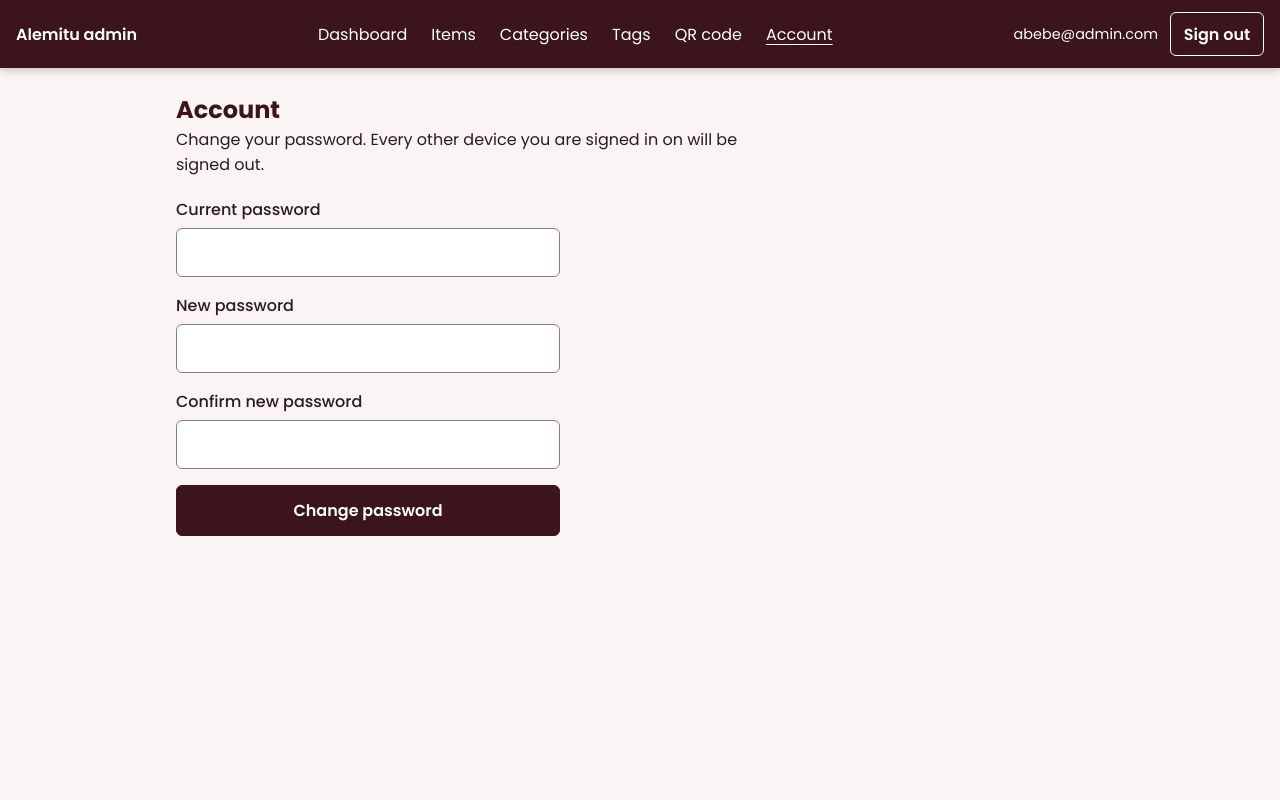
account settings › explains a mismatched confirmation and sends nothing
This screenshot has width=1280, height=800.
In the password field labelled "Current password": [368, 252] box [176, 228, 560, 277], type "old-password-123"
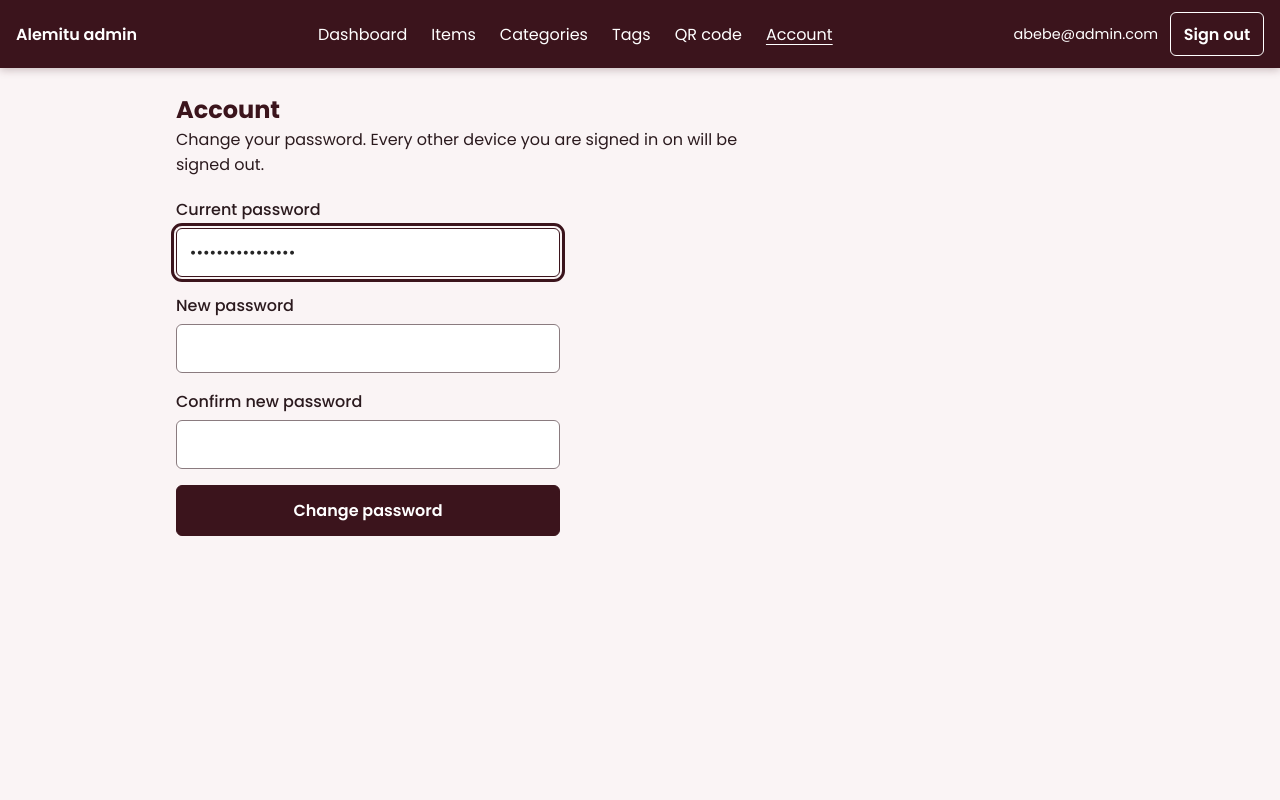
In the password field labelled "New password": [368, 348] box [176, 324, 560, 373], type "new-password-1234"
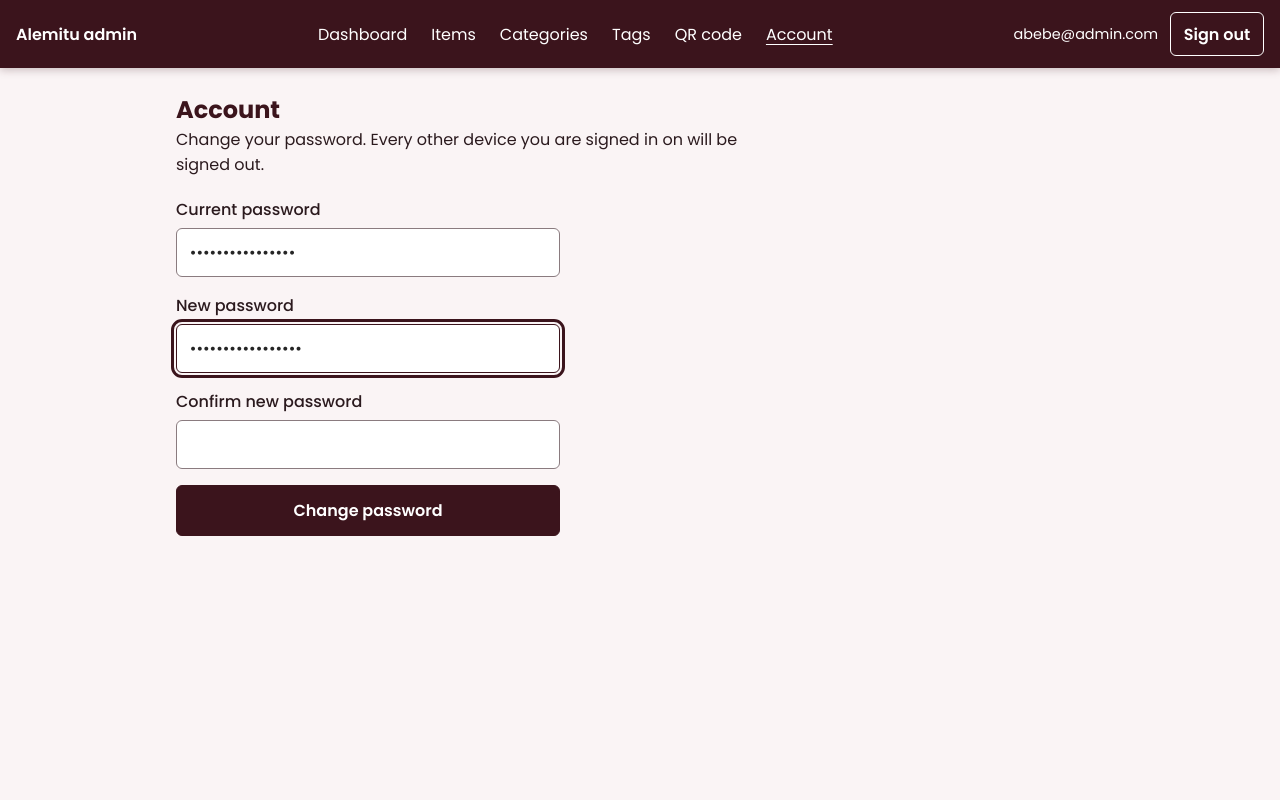
In the password field labelled "Confirm new password": [368, 444] box [176, 420, 560, 469], type "something-else-123"
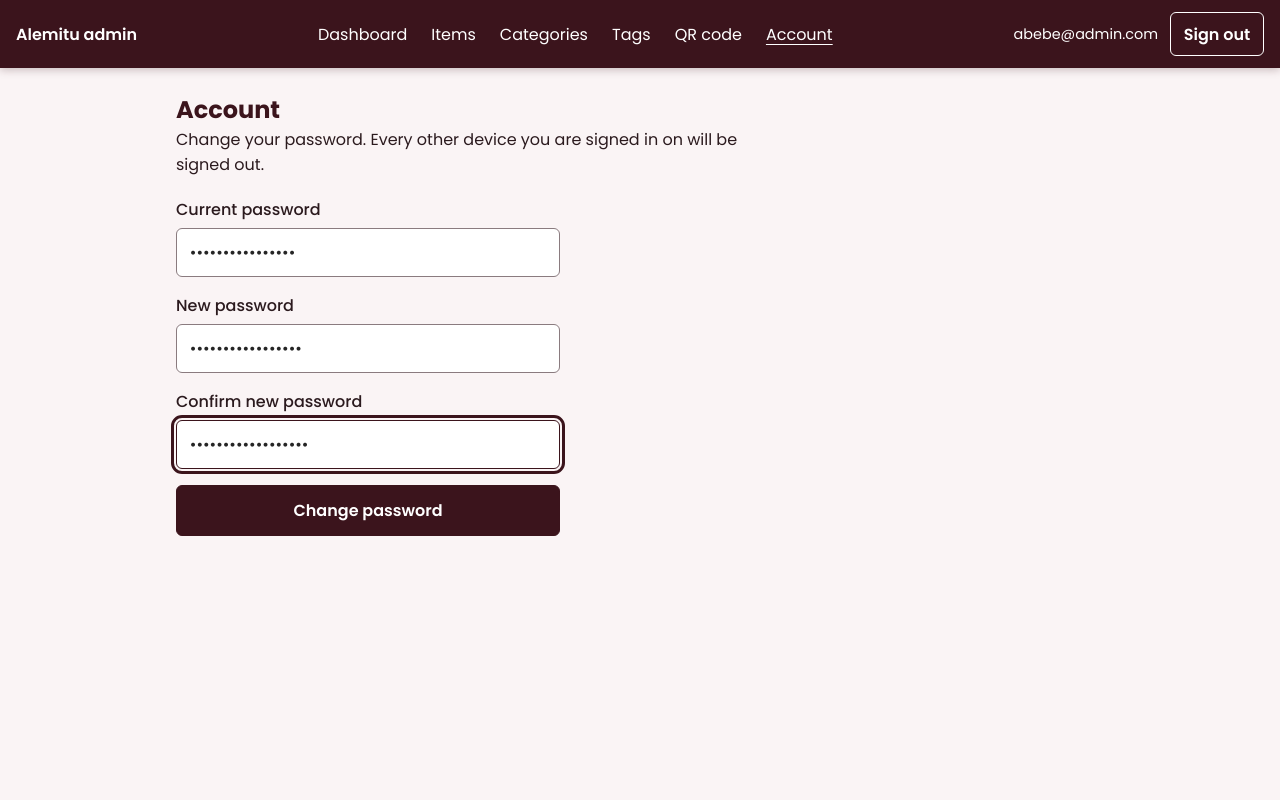
Click the button "Change password": [368, 510] box [176, 485, 560, 536]
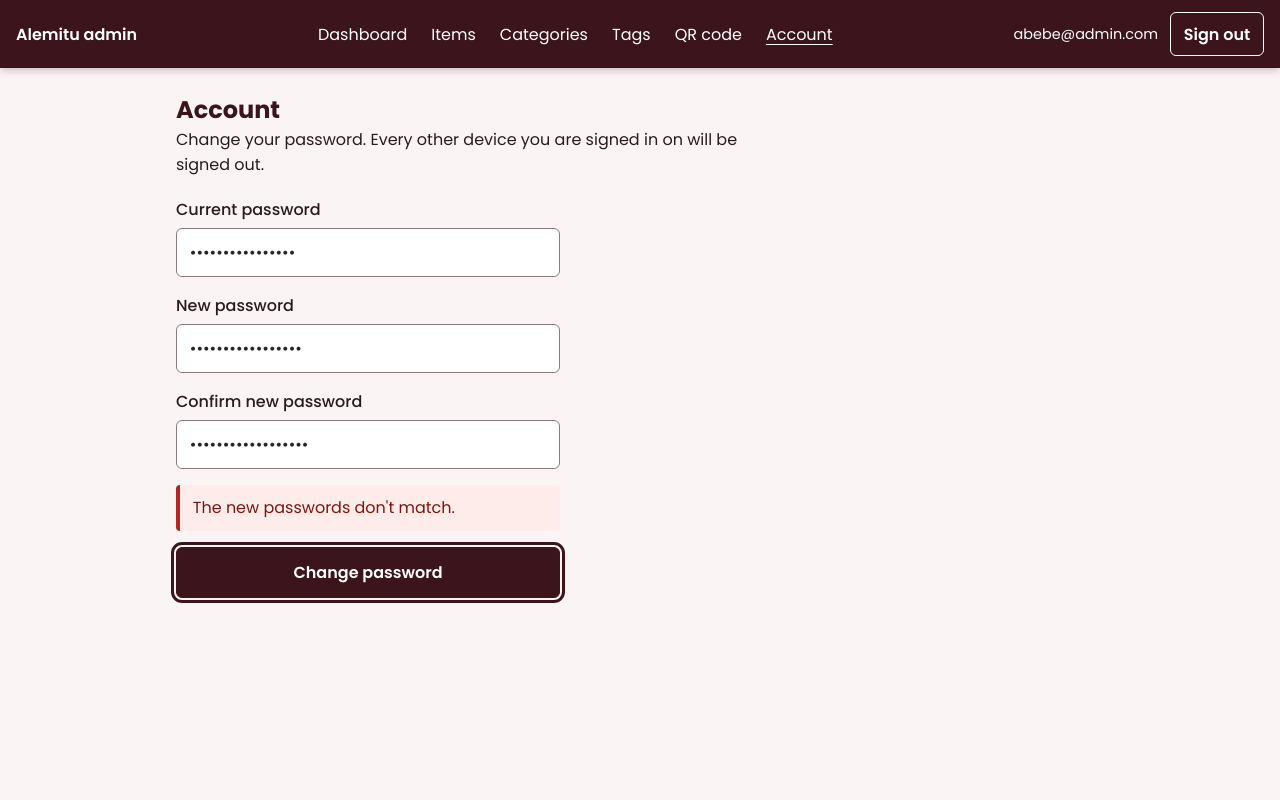
Check: the message shows "don't match", box [193, 496, 455, 519]
